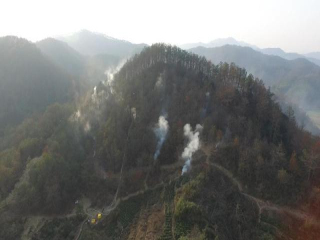smoke: (72, 60, 207, 177)
